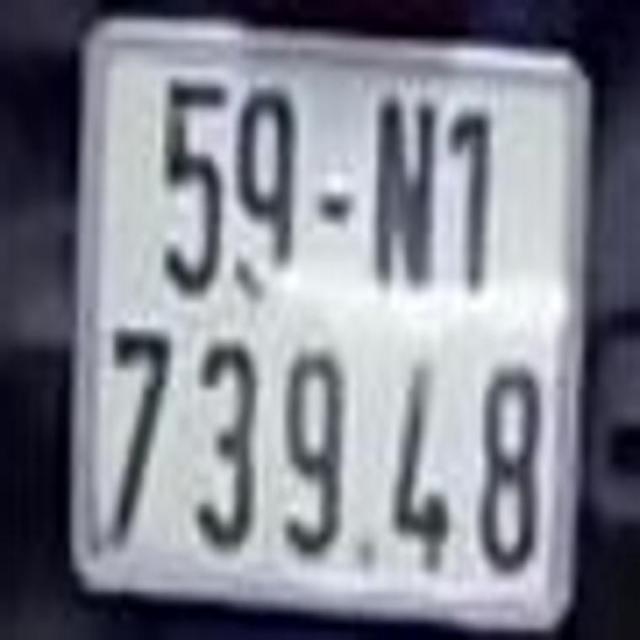1: (446, 104, 496, 290)
3: (189, 333, 256, 550)
5: (167, 75, 230, 288), (390, 358, 452, 568)
7: (100, 323, 171, 552)
8: (478, 362, 540, 569)
9: (236, 84, 296, 300), (282, 350, 343, 550)
N: (374, 92, 434, 292)
